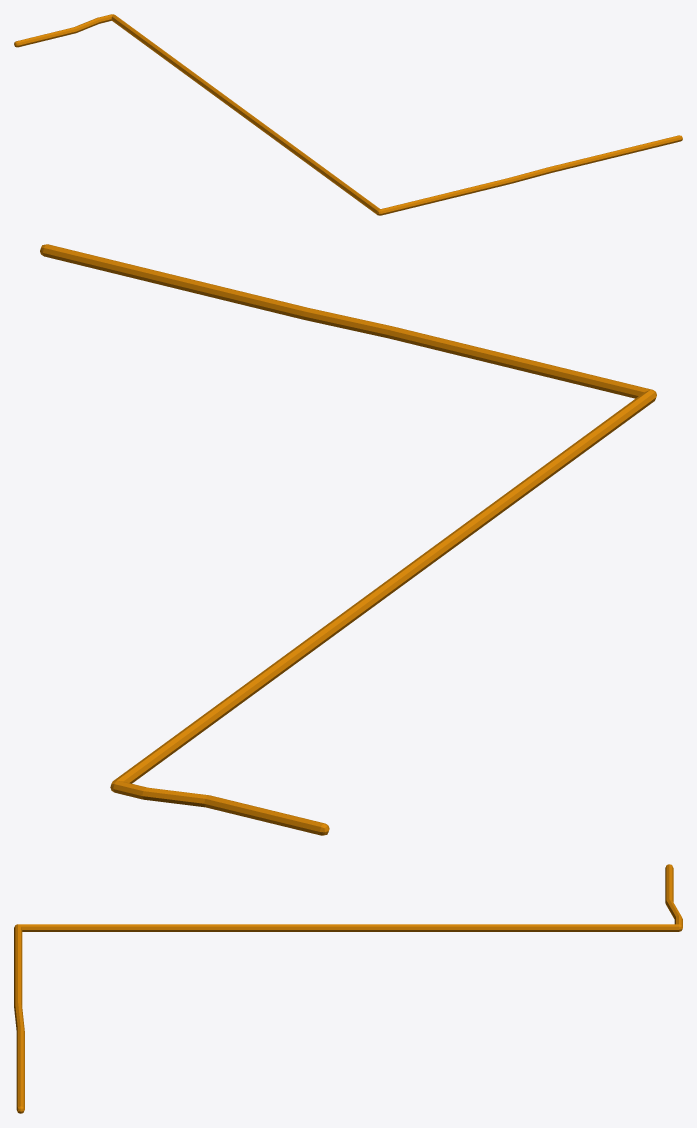
3 views of the same model, one above another, from view 1: azimuth 30°, elevation 25°; view 2: azimuth 150°, elevation 25°; view 3: azimuth 270°, elevation 25° (orthographic). The views are drawn at different scales.
Size of the model in its own units: 1406 by 20 by 1620.
